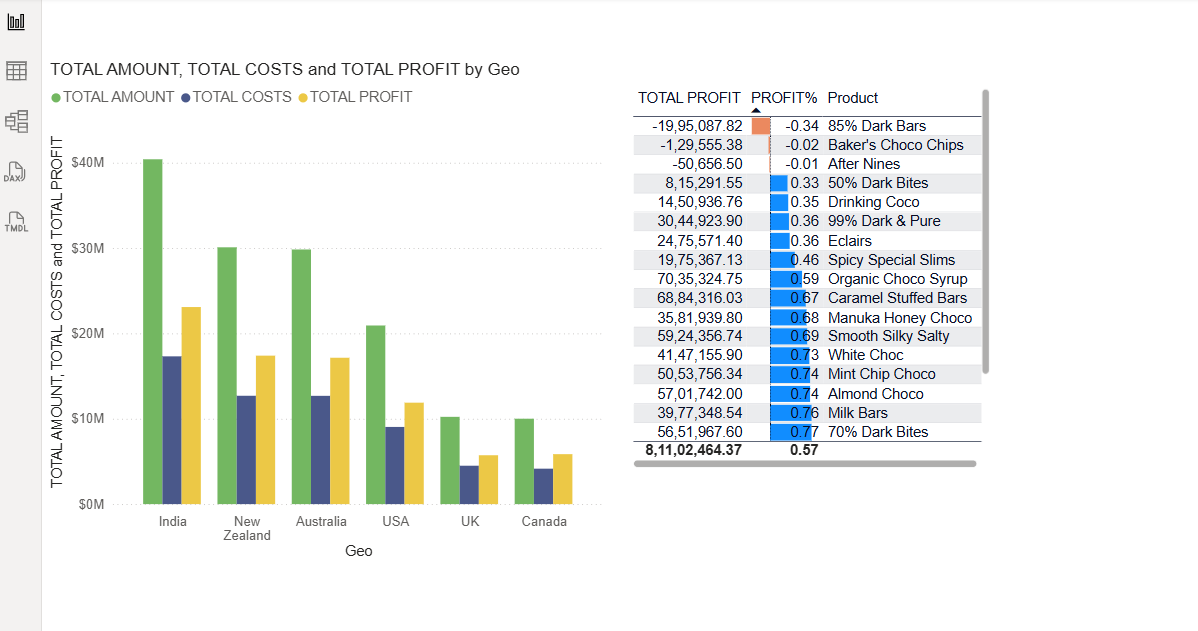

What the dashboard file says about the page in this screenshot:
{"tool":"powerbi","page":{"name":"PROFITS","canvas":[1280,720],"ordinal":1},"visuals":[{"type":"clusteredColumnChart","fields":{"Category":["locations.Geo"],"Y":["shipments.TOTAL AMOUNT","shipments.TOTAL COSTS","shipments.TOTAL PROFIT"]},"box":[0,64,626,562],"z":0},{"type":"tableEx","fields":{"Values":["shipments.TOTAL PROFIT","shipments.PROFIT%","products.Product"]},"box":[640,92,410,434],"z":1000}]}

Visuals, with their boxes on the page's 1280x720 design canvas (x1, y1, x2, y2). These are canvas units, not pixel positions in the 1198x631 screenshot, which may show the page scaled, cropped or inside an application window:
clusteredColumnChart - locations.Geo x shipments.TOTAL AMOUNT: box(0, 64, 626, 626)
tableEx - shipments.TOTAL PROFIT x shipments.PROFIT%: box(640, 92, 1050, 526)
